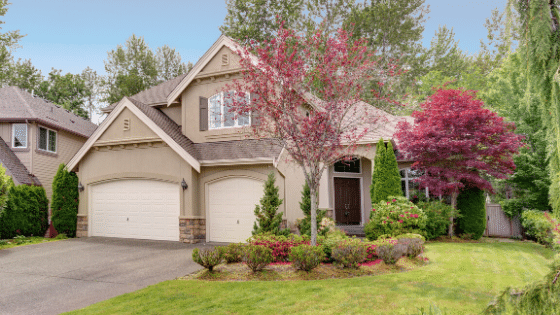bush: (202, 231, 424, 269), (1, 176, 85, 239)
tree: (227, 25, 388, 251), (395, 87, 520, 236)
